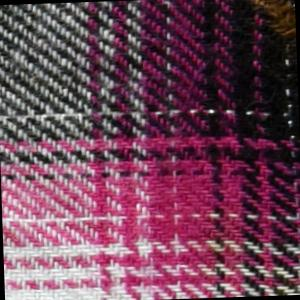Oil Stain: (247, 1, 297, 46)
